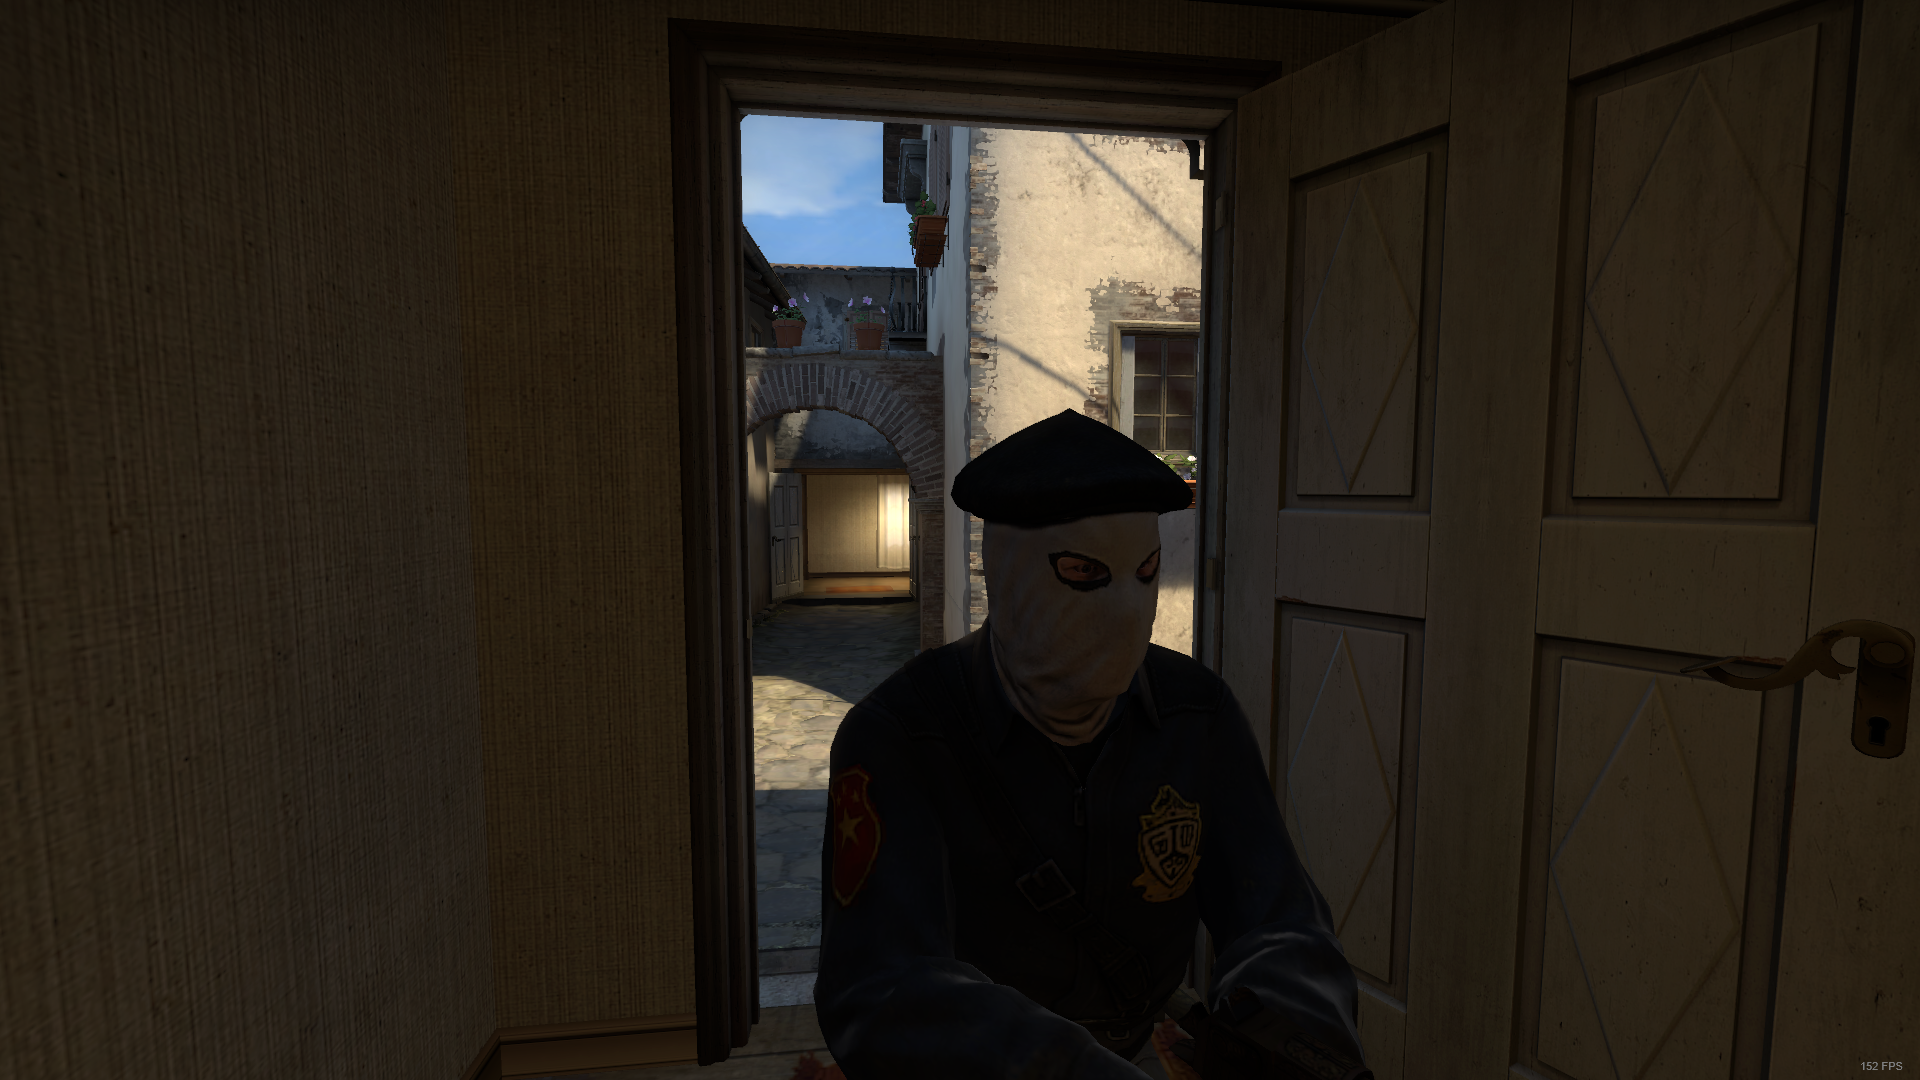t: (803, 405, 1371, 1080)
